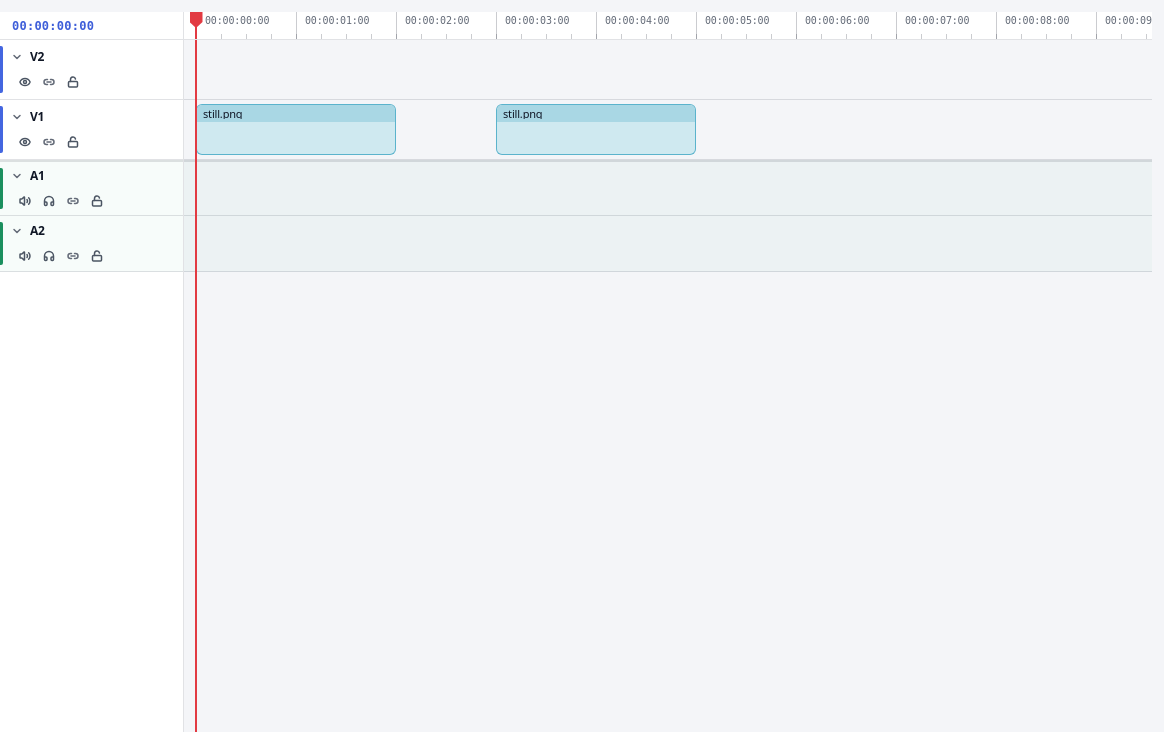
it: Timeline › leaves a track's name alone when renaming is cancelled
This screenshot has width=1164, height=732.
Double-click the button named "V2, double-click to rename" at (66, 57), box [26,48,107,66]
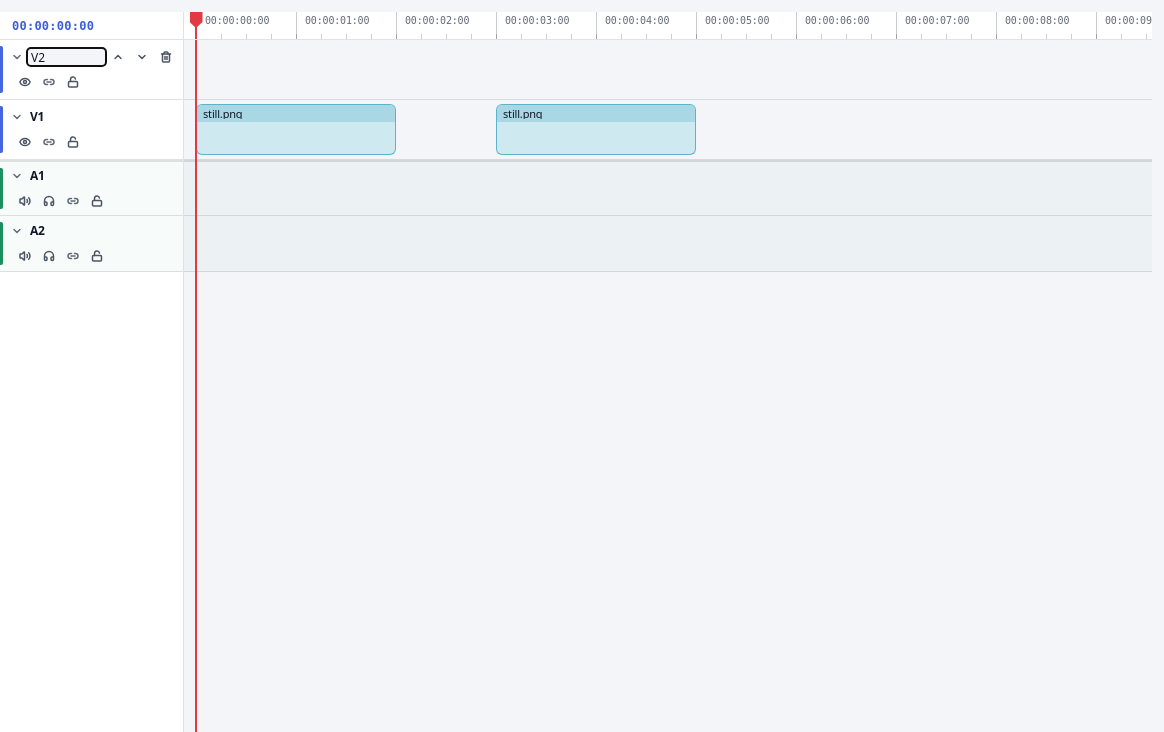
Type "x" into the field named "Name of V2" at (66, 57), box [26,47,107,67]
Then press Escape
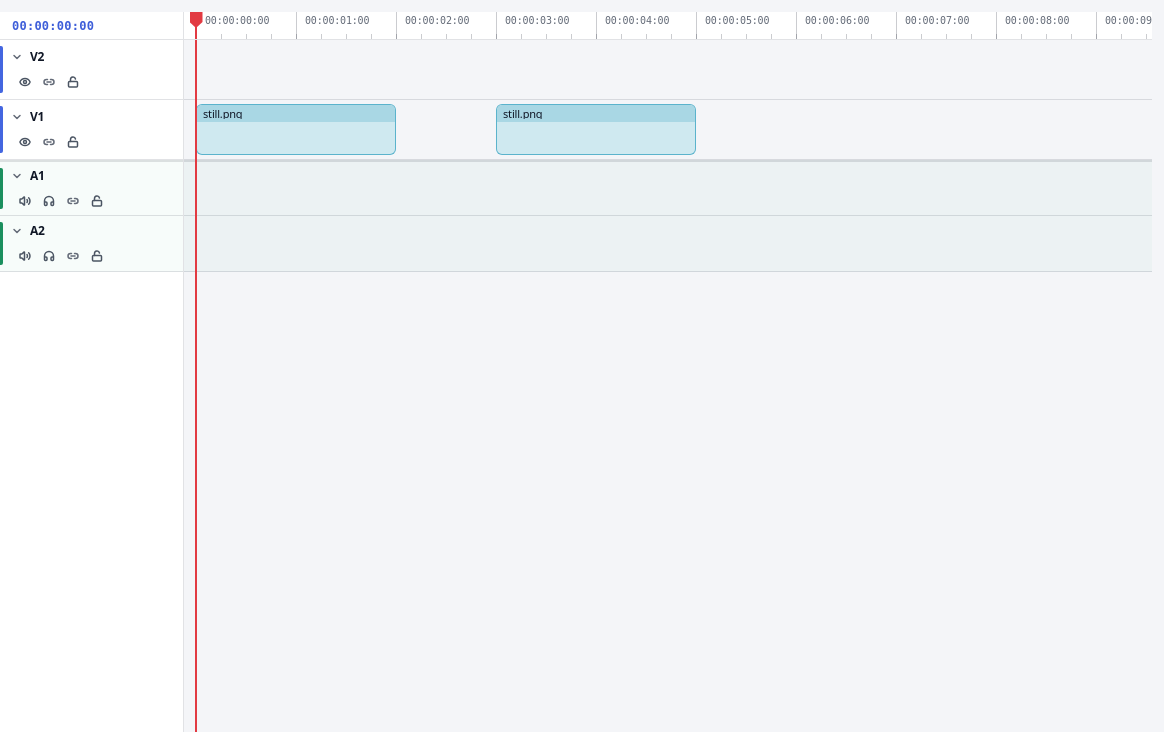
Result: the button named "V2, double-click to rename" is shown at [26,48,107,66]
